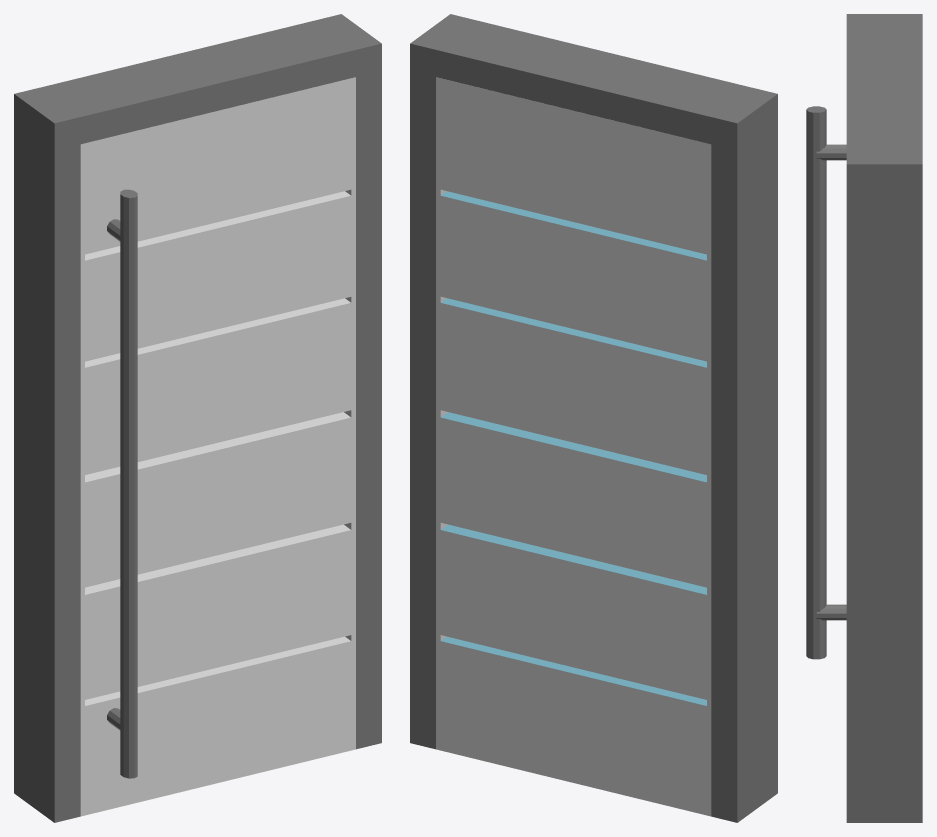
The model's file is porte3.fbx.
3 renders of one model, left to right at view 1: azimuth 30°, elevation 25°; view 2: azimuth 150°, elevation 25°; view 3: azimuth 270°, elevation 25°, orthographic. The views are drawn at different scales.
Visible parts, largest first — view 1: Cube.003; view 2: Cube.003; view 3: Cube.003.
Part boxes in pixels (box(x1,y1,x2,y2)): Cube.003: box(14, 14, 381, 822); Cube.003: box(410, 14, 777, 822); Cube.003: box(806, 14, 922, 822).
Size of the model in its own units: 357 by 728 by 117.
